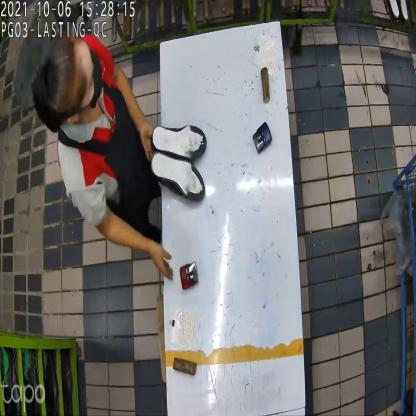shoes: (146, 118, 208, 202)
stamp: (254, 121, 272, 155), (180, 262, 199, 294)
